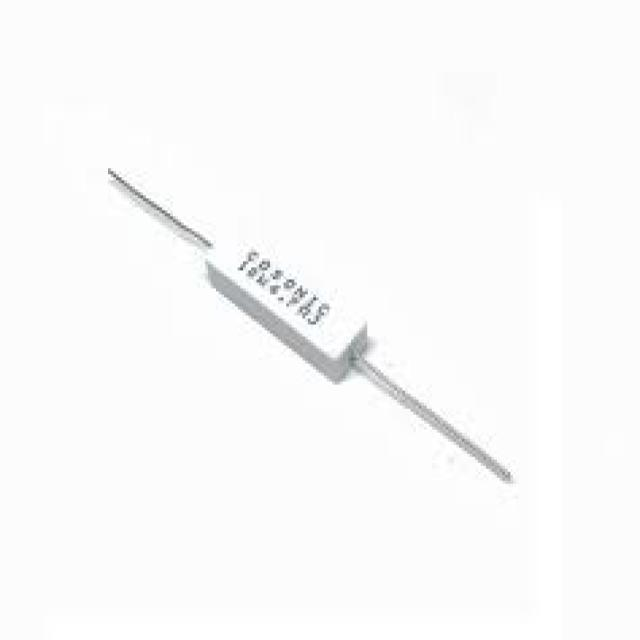Resistor: (203, 236, 363, 380)
